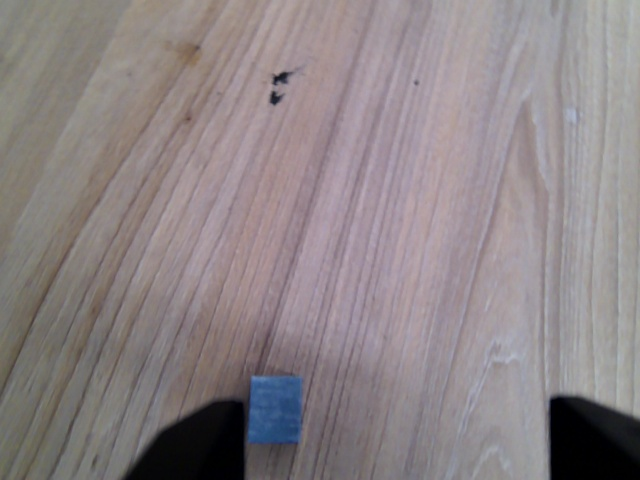stone: (237, 364, 308, 450)
